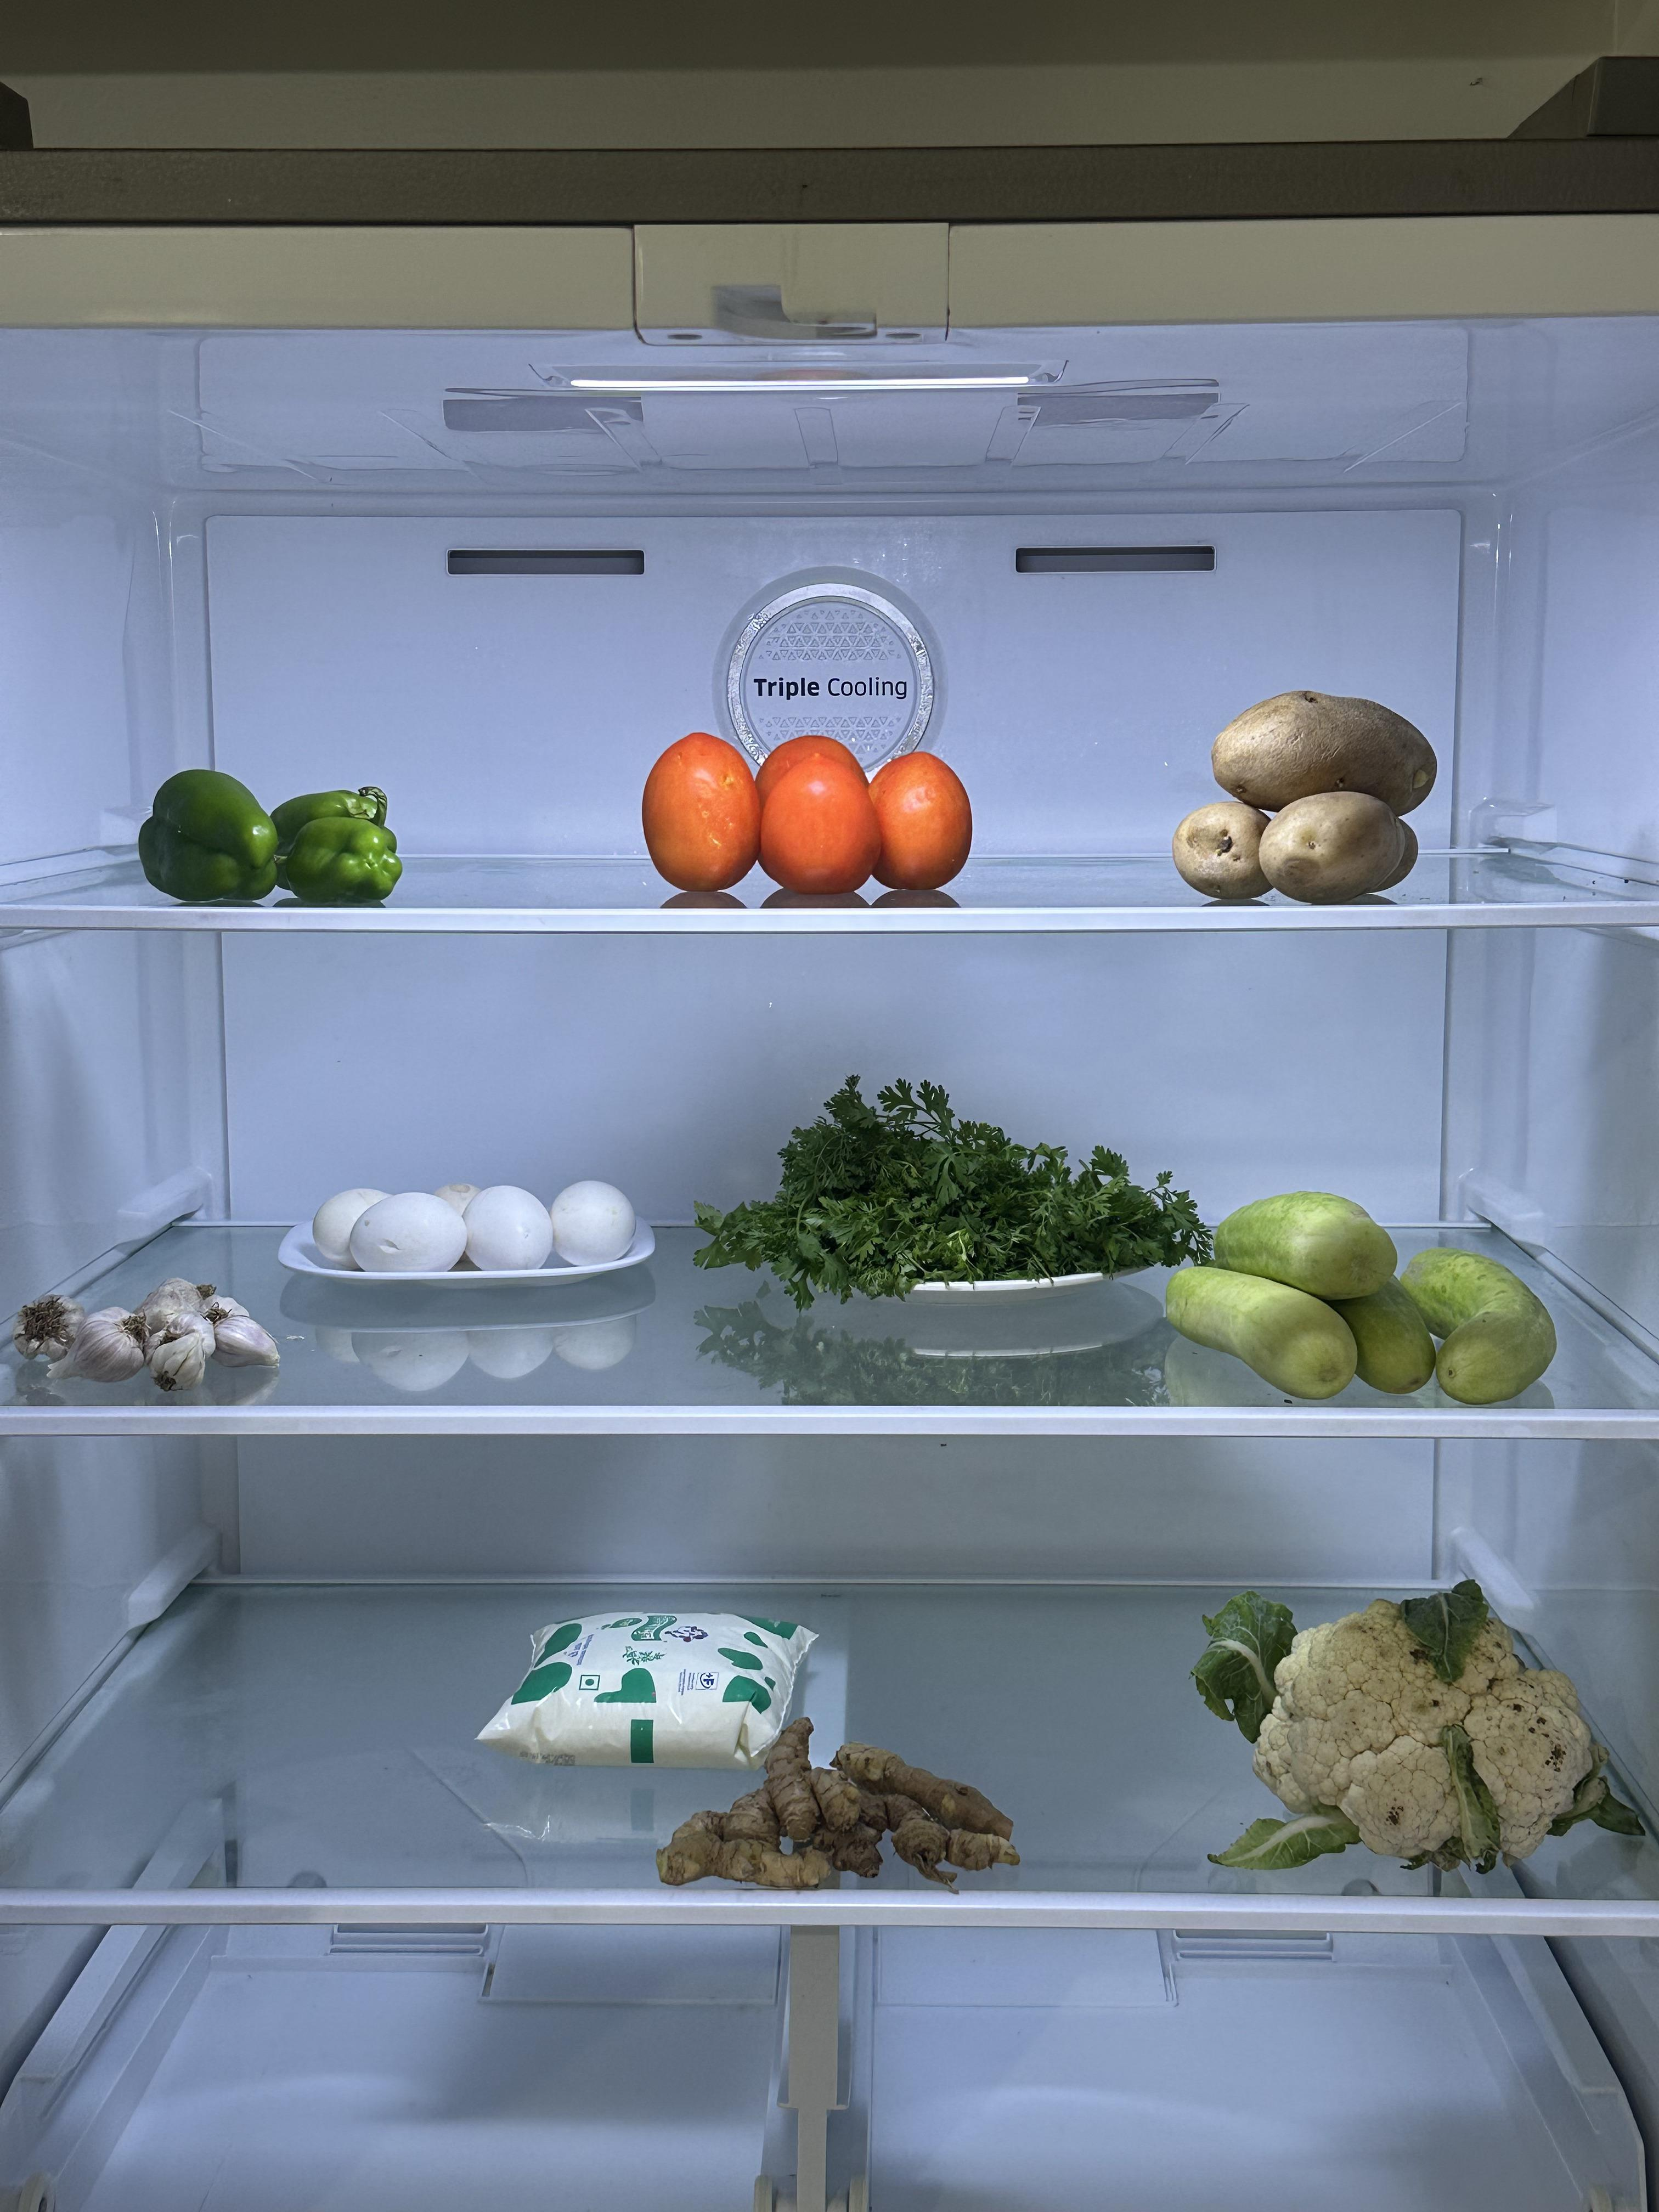capsicum: (112, 740, 429, 911)
coriander: (735, 1087, 1157, 1324)
cucumber: (1175, 1186, 1544, 1416)
egg: (298, 1170, 660, 1289)
garlic: (12, 1263, 293, 1399)
ginger: (1251, 1587, 1608, 1869), (653, 1750, 1025, 1895)
milk: (518, 1592, 793, 1763)
potato: (1180, 686, 1429, 899)
tomato: (638, 719, 969, 911)
